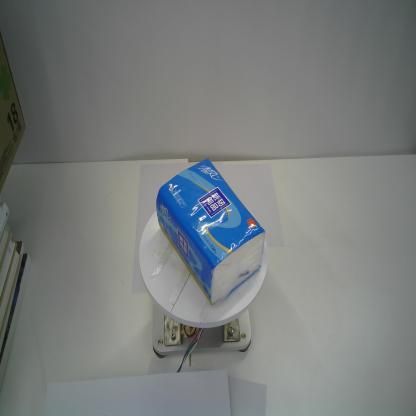Tissue: (155, 157, 264, 306)
